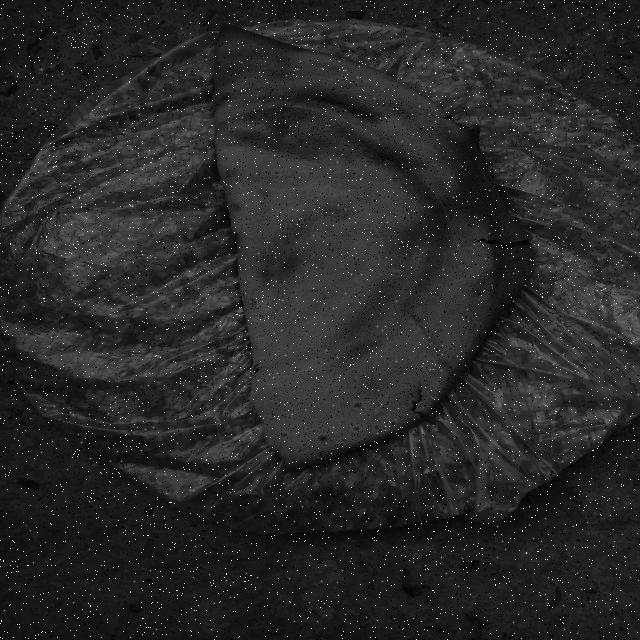injera_mold: (381, 428, 394, 439), (423, 405, 432, 416), (317, 434, 328, 442), (409, 399, 420, 407), (391, 270, 402, 278), (431, 396, 441, 403), (352, 426, 361, 432), (395, 428, 402, 435), (280, 432, 288, 438), (354, 402, 361, 408), (490, 284, 496, 291), (389, 421, 397, 426), (301, 442, 308, 447), (339, 443, 345, 448), (373, 425, 380, 429), (370, 440, 377, 444), (340, 58, 348, 61), (274, 170, 280, 174), (374, 435, 379, 439), (412, 414, 418, 417), (305, 427, 309, 431), (263, 60, 267, 64), (361, 407, 366, 410), (362, 442, 367, 444), (313, 458, 316, 460), (358, 445, 361, 447), (412, 418, 414, 421), (408, 416, 411, 418), (262, 57, 265, 59), (318, 456, 320, 458), (480, 291, 482, 293), (477, 284, 479, 286), (490, 278, 492, 280), (271, 59, 273, 61), (313, 455, 316, 456), (255, 51, 258, 52), (335, 456, 337, 457), (346, 451, 348, 452), (352, 443, 354, 444), (368, 442, 370, 443), (485, 280, 487, 281), (347, 62, 349, 63), (257, 64, 258, 66), (261, 64, 263, 65), (270, 56, 272, 57), (346, 448, 347, 449), (348, 448, 349, 449), (363, 445, 364, 446), (344, 451, 345, 451), (490, 292, 492, 292)
